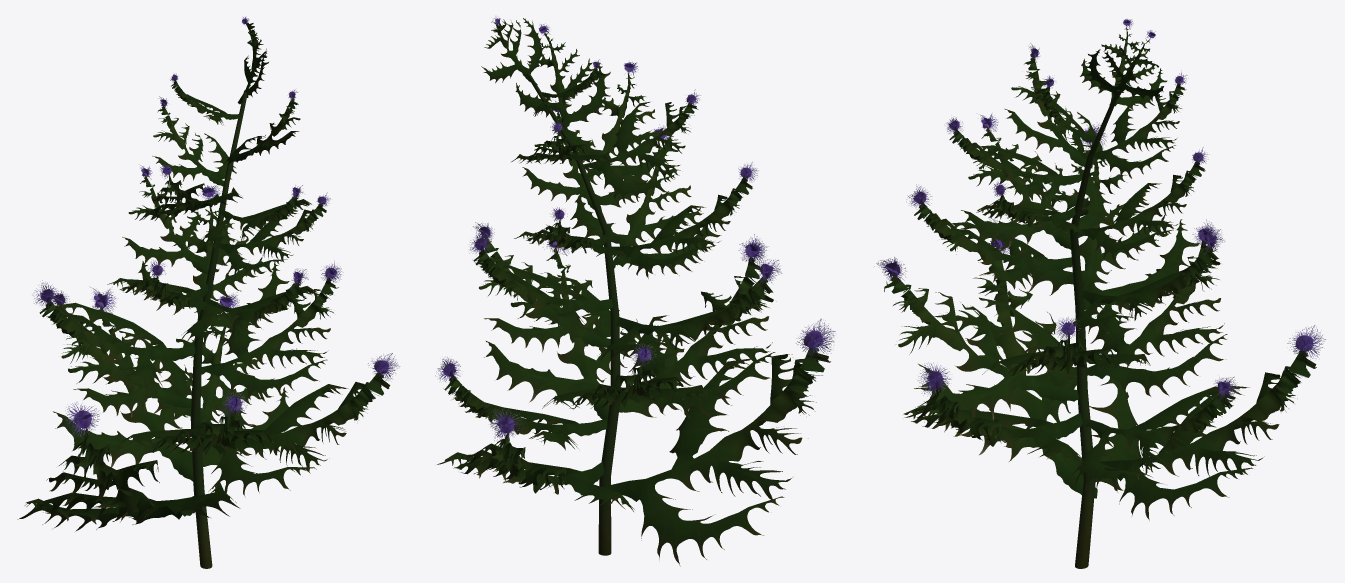
File: sm_Thistle_pianta.fbx
The picture shows the model from 3 angles, left to right: view 1: azimuth 30°, elevation 25°; view 2: azimuth 150°, elevation 25°; view 3: azimuth 270°, elevation 25°; orthographic projection. The views are drawn at different scales.
Visible parts, largest first — view 1: Leaf15, Leaf17, Leaf16, Leaf06, Leaf08, Leaf05, Leaf04, Trunk, Leaf18, Leaf07, Leaf00, Leaf12 (+8 smaller); view 2: Leaf15, Leaf05, Leaf17, Leaf16, Trunk, Leaf08, Leaf09, Leaf03, Leaf11, Leaf06, Leaf07, Leaf18 (+8 smaller); view 3: Leaf16, Leaf05, Leaf15, Leaf04, Leaf08, Leaf17, Leaf18, Leaf11, Trunk, Leaf09, Leaf00, Leaf07 (+8 smaller).
Boxes of the visible parts, box(x1,y1,x2,y2) form: Leaf15: box(17, 402, 240, 531); Leaf17: box(211, 353, 400, 497); Leaf16: box(53, 286, 253, 481); Leaf06: box(201, 260, 343, 401); Leaf08: box(32, 280, 195, 394); Leaf05: box(116, 392, 298, 455); Leaf04: box(51, 290, 192, 417); Trunk: box(190, 90, 247, 568); Leaf18: box(137, 291, 289, 452); Leaf07: box(138, 184, 289, 332); Leaf00: box(122, 165, 234, 273); Leaf12: box(213, 192, 330, 277); Leaf15: box(602, 318, 835, 566); Leaf05: box(628, 234, 775, 418); Leaf17: box(484, 224, 692, 419); Leaf16: box(437, 409, 634, 511); Trunk: box(526, 72, 620, 555); Leaf08: box(599, 259, 782, 361); Leaf09: box(570, 124, 721, 275); Leaf03: box(582, 89, 700, 203); Leaf11: box(611, 161, 758, 278); Leaf06: box(473, 222, 622, 352); Leaf07: box(469, 231, 613, 334); Leaf18: box(435, 357, 607, 450); Leaf16: box(1100, 325, 1325, 520); Leaf05: box(874, 257, 1079, 420); Leaf15: box(918, 218, 1150, 498); Leaf04: box(1087, 219, 1227, 396); Leaf08: box(1006, 124, 1201, 310); Leaf17: box(903, 362, 1087, 465); Leaf18: box(1072, 376, 1239, 492); Leaf11: box(961, 114, 1115, 249); Trunk: box(1070, 90, 1119, 568); Leaf09: box(906, 184, 1072, 289); Leaf00: box(1077, 147, 1209, 261); Leaf07: box(1072, 229, 1225, 335).
Bounding box in the file's own units: 1.12 × 1.74 × 1.26.
1 material, 1 textured.
